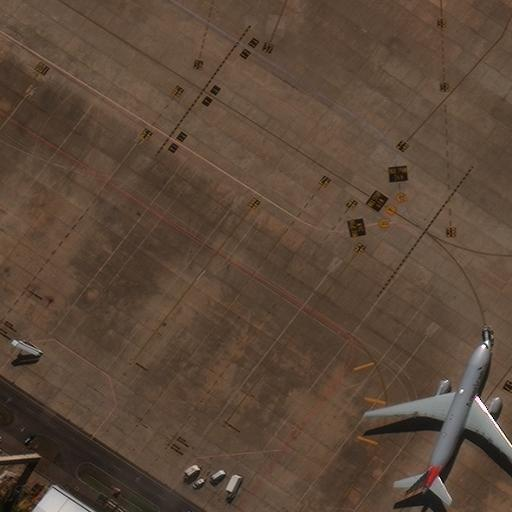Large Civil Transport: (364, 339, 512, 492)
